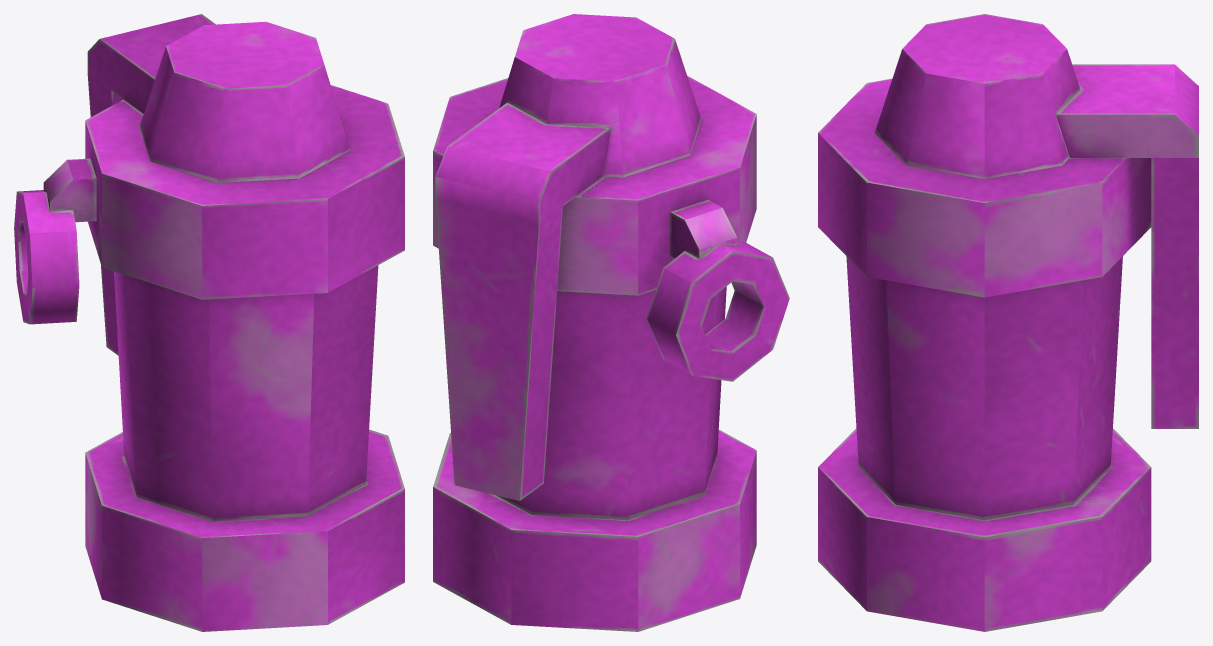
The model's file is grenade-a.glb.
The picture shows the model from 3 angles, left to right: view 1: azimuth 30°, elevation 25°; view 2: azimuth 150°, elevation 25°; view 3: azimuth 270°, elevation 25°; orthographic projection.
Parts seen in each view (by area): view 1: grenade-a; view 2: grenade-a; view 3: grenade-a.
Boxes of the visible parts, <box> form: grenade-a: <box>14,14,404,631</box>; grenade-a: <box>433,14,789,631</box>; grenade-a: <box>818,14,1198,631</box>.
Bounding box in the file's own units: 0.1689 × 0.2377 × 0.1599.
1 material, 1 textured.
